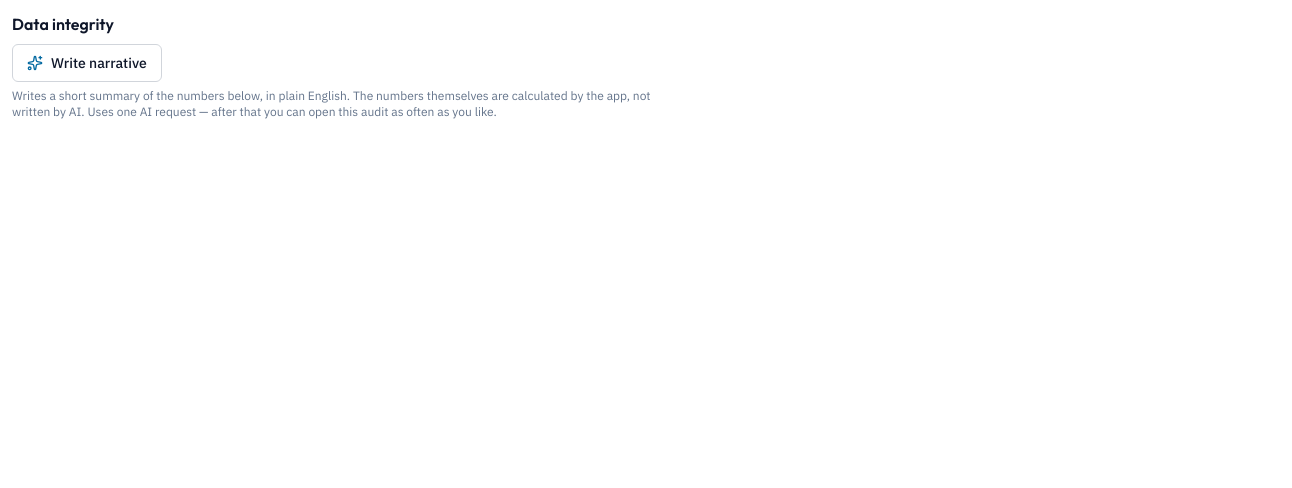
Test: the button writes this step's narrative, shows no verdict of its own, the decision informed column and a ranked list
The width and height of the screenshot is (1292, 488).
Click the button "Write narrative" at (87, 63), box [12,44,162,82]
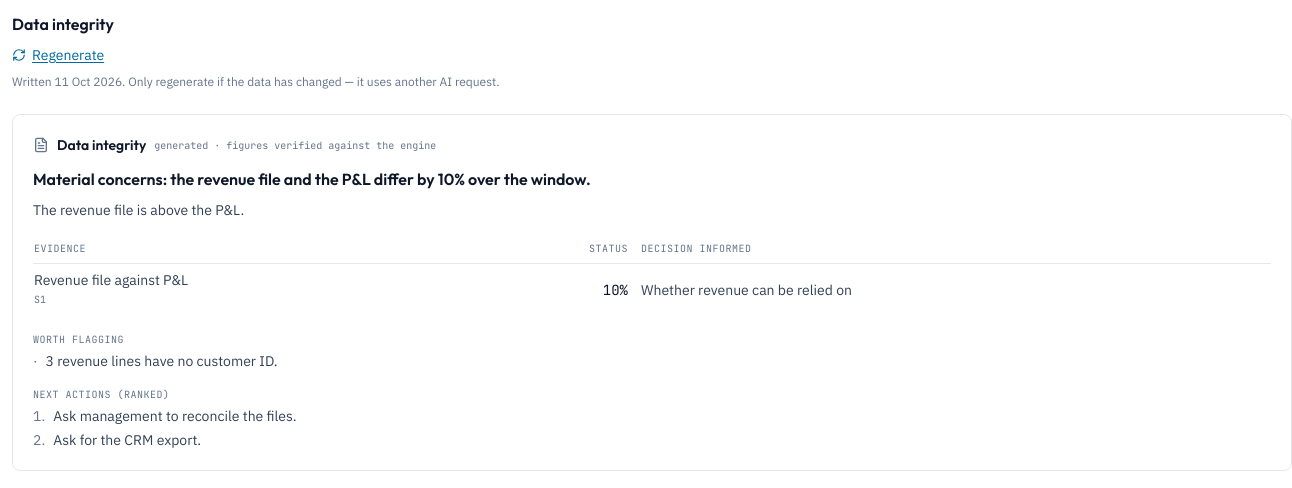
Now the text "Decision informed" is shown, box [629,238,1271,263]
Now the cell "Whether revenue can be relied on" is shown, box [629,263,1271,316]
